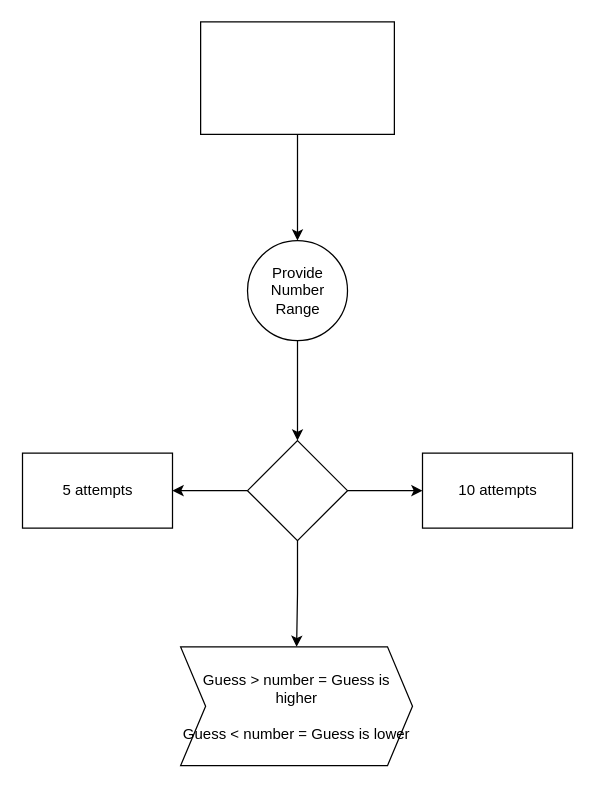
This 594x788 diagram has some shape labels left out. The shapes that lost their labels are listed below. From the top down, each one's box as (x1, y1, x2, y2) in pixels, then its label:
(199, 21, 394, 134): Start Welcome message
(246, 439, 348, 541): Hard | Easy
